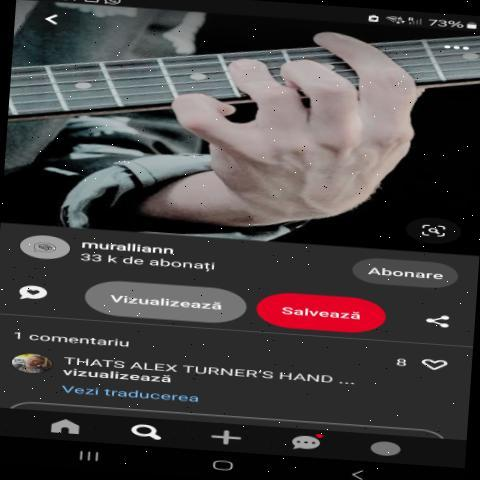Hands: (144, 19, 434, 230)
